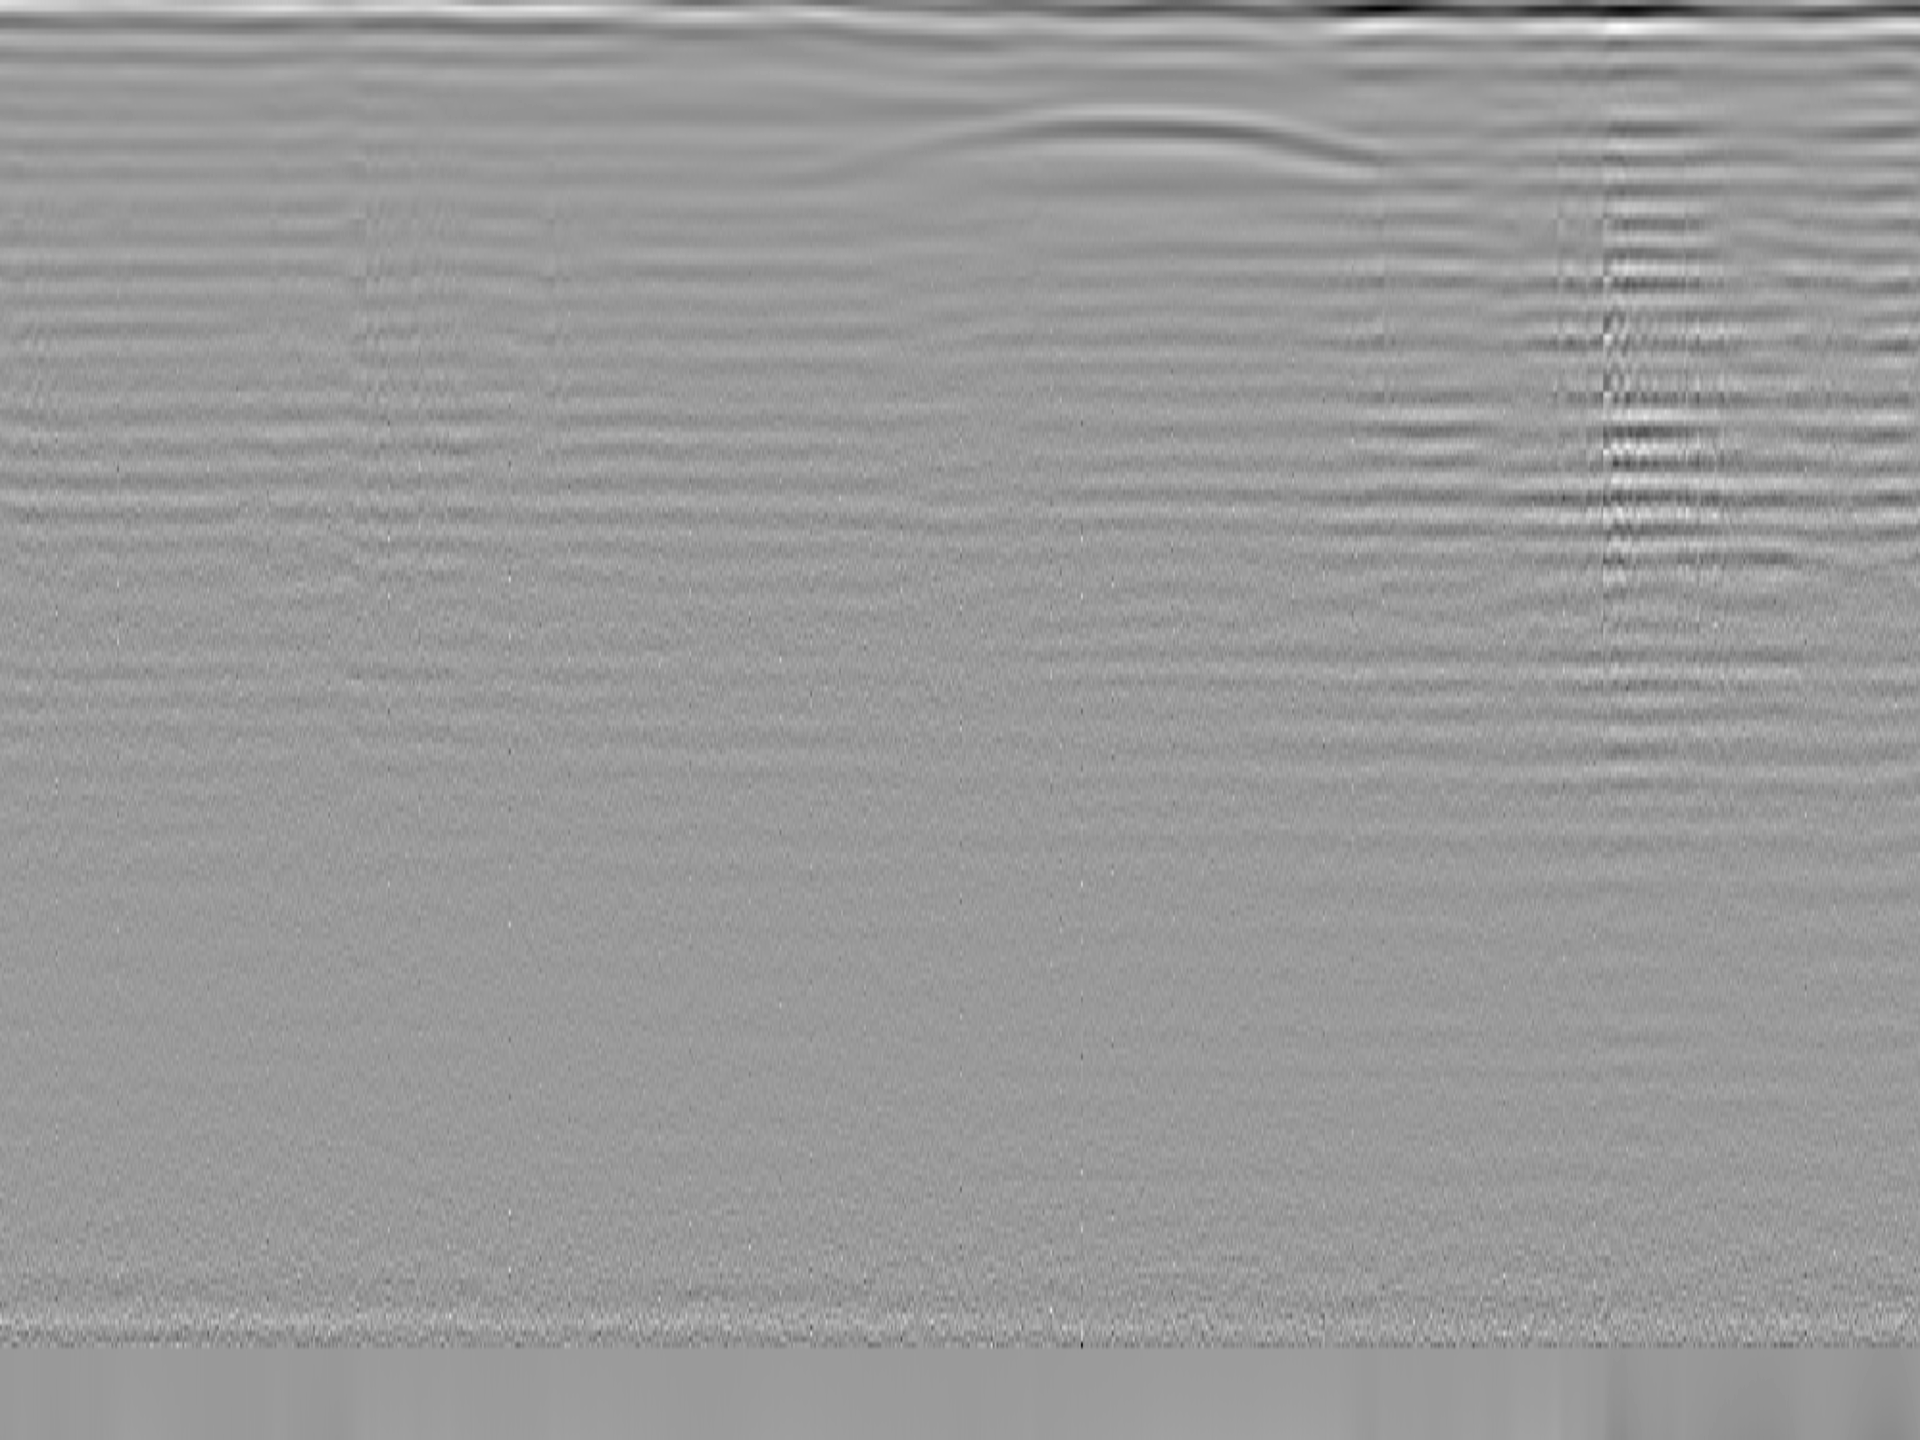Tunnel: (822, 101, 1432, 175)
